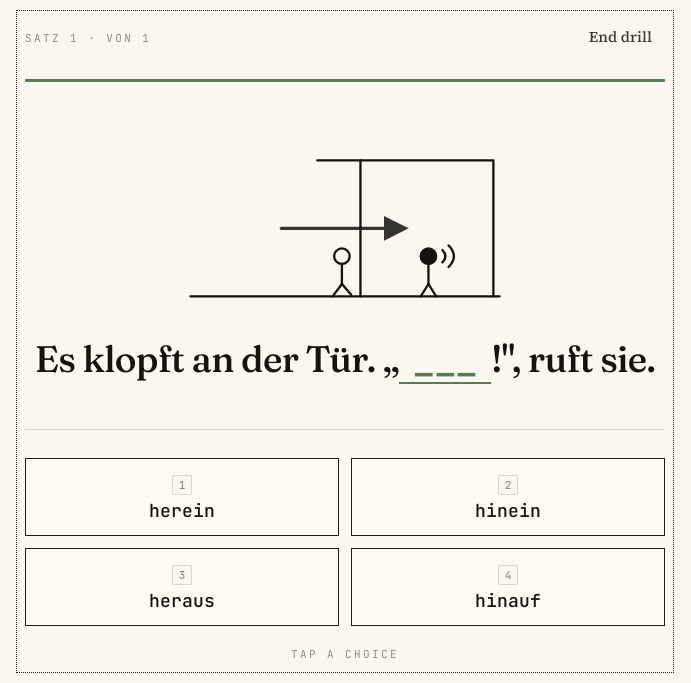
Test case: CompoundRunner — reveal content (always shown, win or lose) › shows the filled sentence, translation, and r-form note after a wrong pick
This screenshot has width=691, height=683.
Click the button with class "choice" showing "2 hinein" at (508, 497), box [351,458,665,536]
(page scrolled)
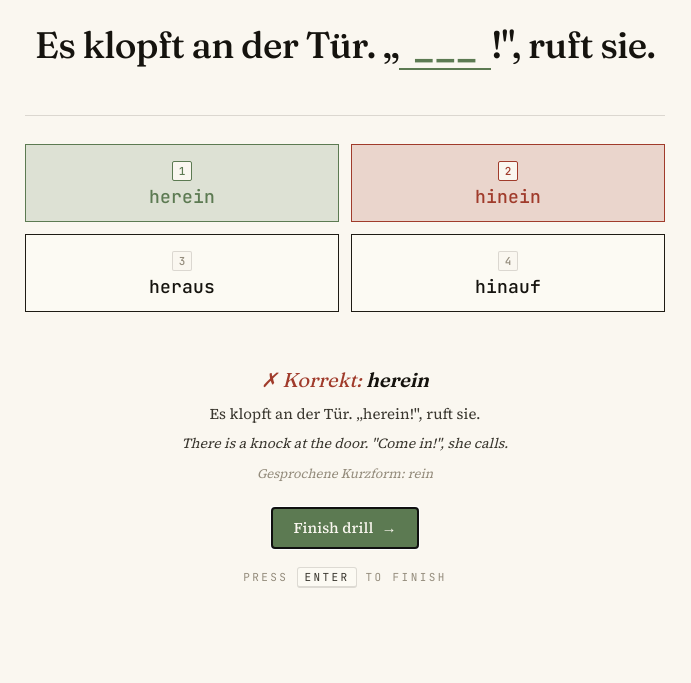
Check: the element with class "drill-feedback" is shown, box [182,367,508,549]
Check: the element with class "drill-feedback" shows "There is a knock at the door. \"Come in!\", she calls.", box [182,433,508,453]
